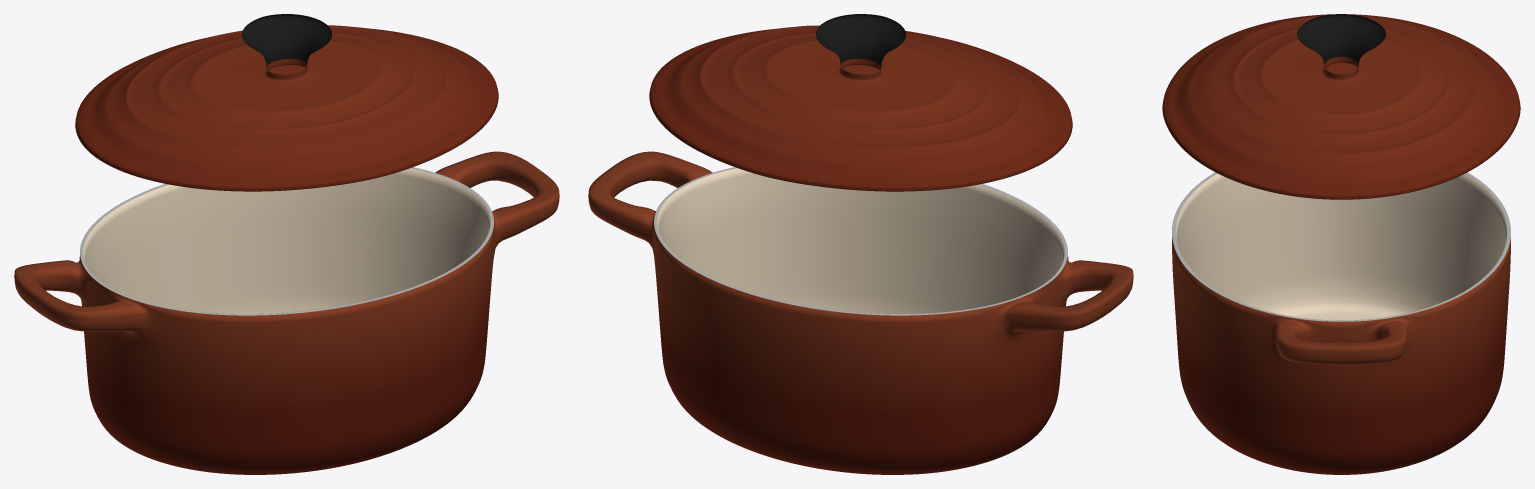
The model's file is obj_lecreuset_dutch_oven_4919df.glb.
3 views of the same model, side by side, from view 1: azimuth 30°, elevation 25°; view 2: azimuth 150°, elevation 25°; view 3: azimuth 270°, elevation 25° (orthographic). The views are drawn at different scales.
Visible parts, largest first — view 1: obj_lecreuset_dutch_oven_4919df; view 2: obj_lecreuset_dutch_oven_4919df; view 3: obj_lecreuset_dutch_oven_4919df.
Boxes of the visible parts, bbox=[...] form: obj_lecreuset_dutch_oven_4919df: bbox=[14, 14, 559, 474]; obj_lecreuset_dutch_oven_4919df: bbox=[588, 14, 1133, 474]; obj_lecreuset_dutch_oven_4919df: bbox=[1162, 14, 1520, 474].
Bounding box in the file's own units: 0.35 × 0.253 × 0.2192.
4 materials, 1 textured.
